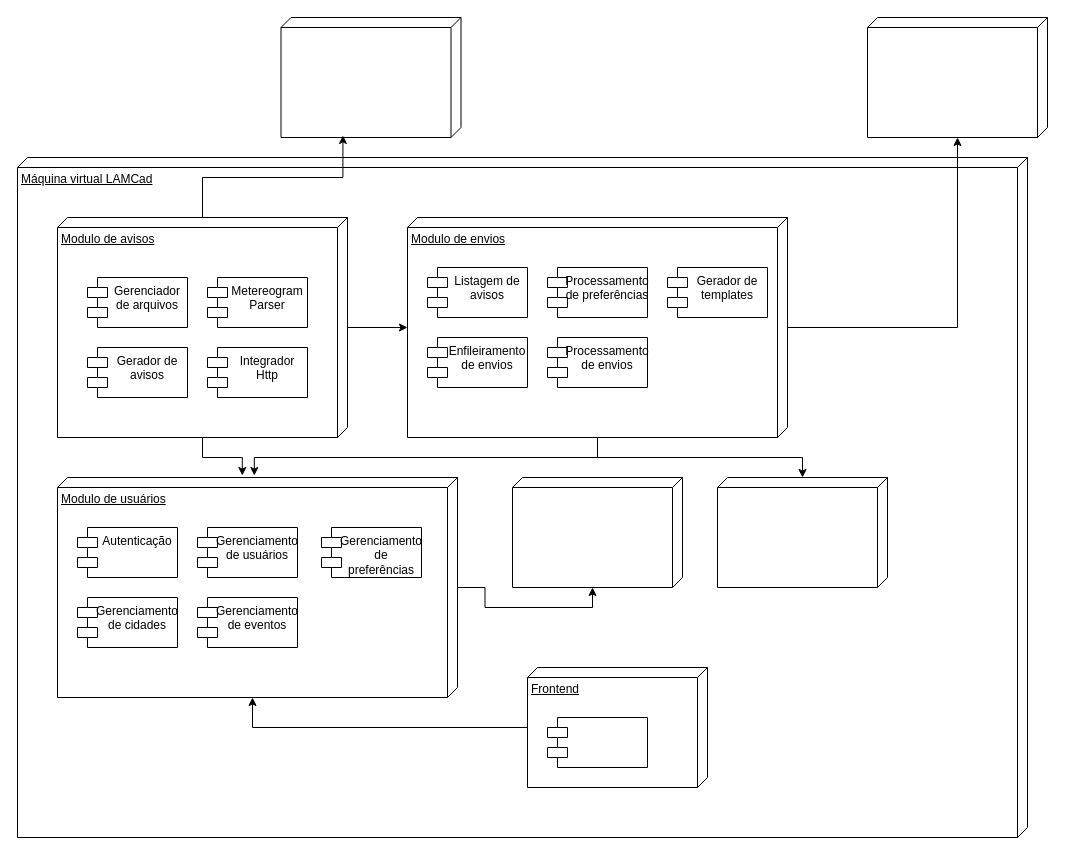
This 1065x855 diagram has some shape labels left out. Here are the shapes that lost their labels. From the top down, the centre of each, then its label:
the point at 370,77: Servidor de arquivos CEMPA
the point at 957,77: Serviços de envios externos
the point at 597,532: PostgresSql
the point at 802,532: Redis
the point at 597,742: UI
